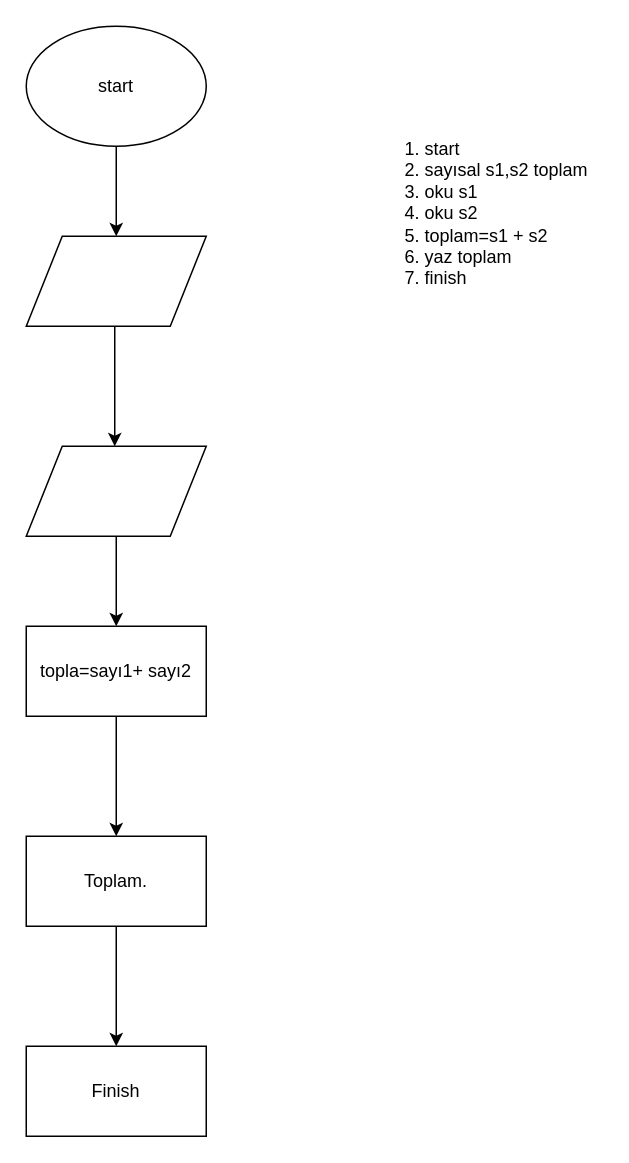
Image size: 629x1163. Some labels were removed from this diagram. The box of each missing label's shape, as (x1, y1, x2, y2) in pixels:
sayı 1: (25, 235, 206, 326)
sayı 2: (25, 445, 206, 536)
